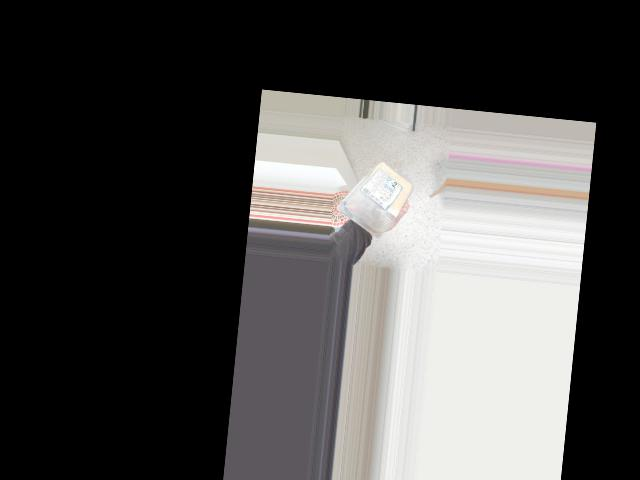cheese: (341, 155, 406, 230)
